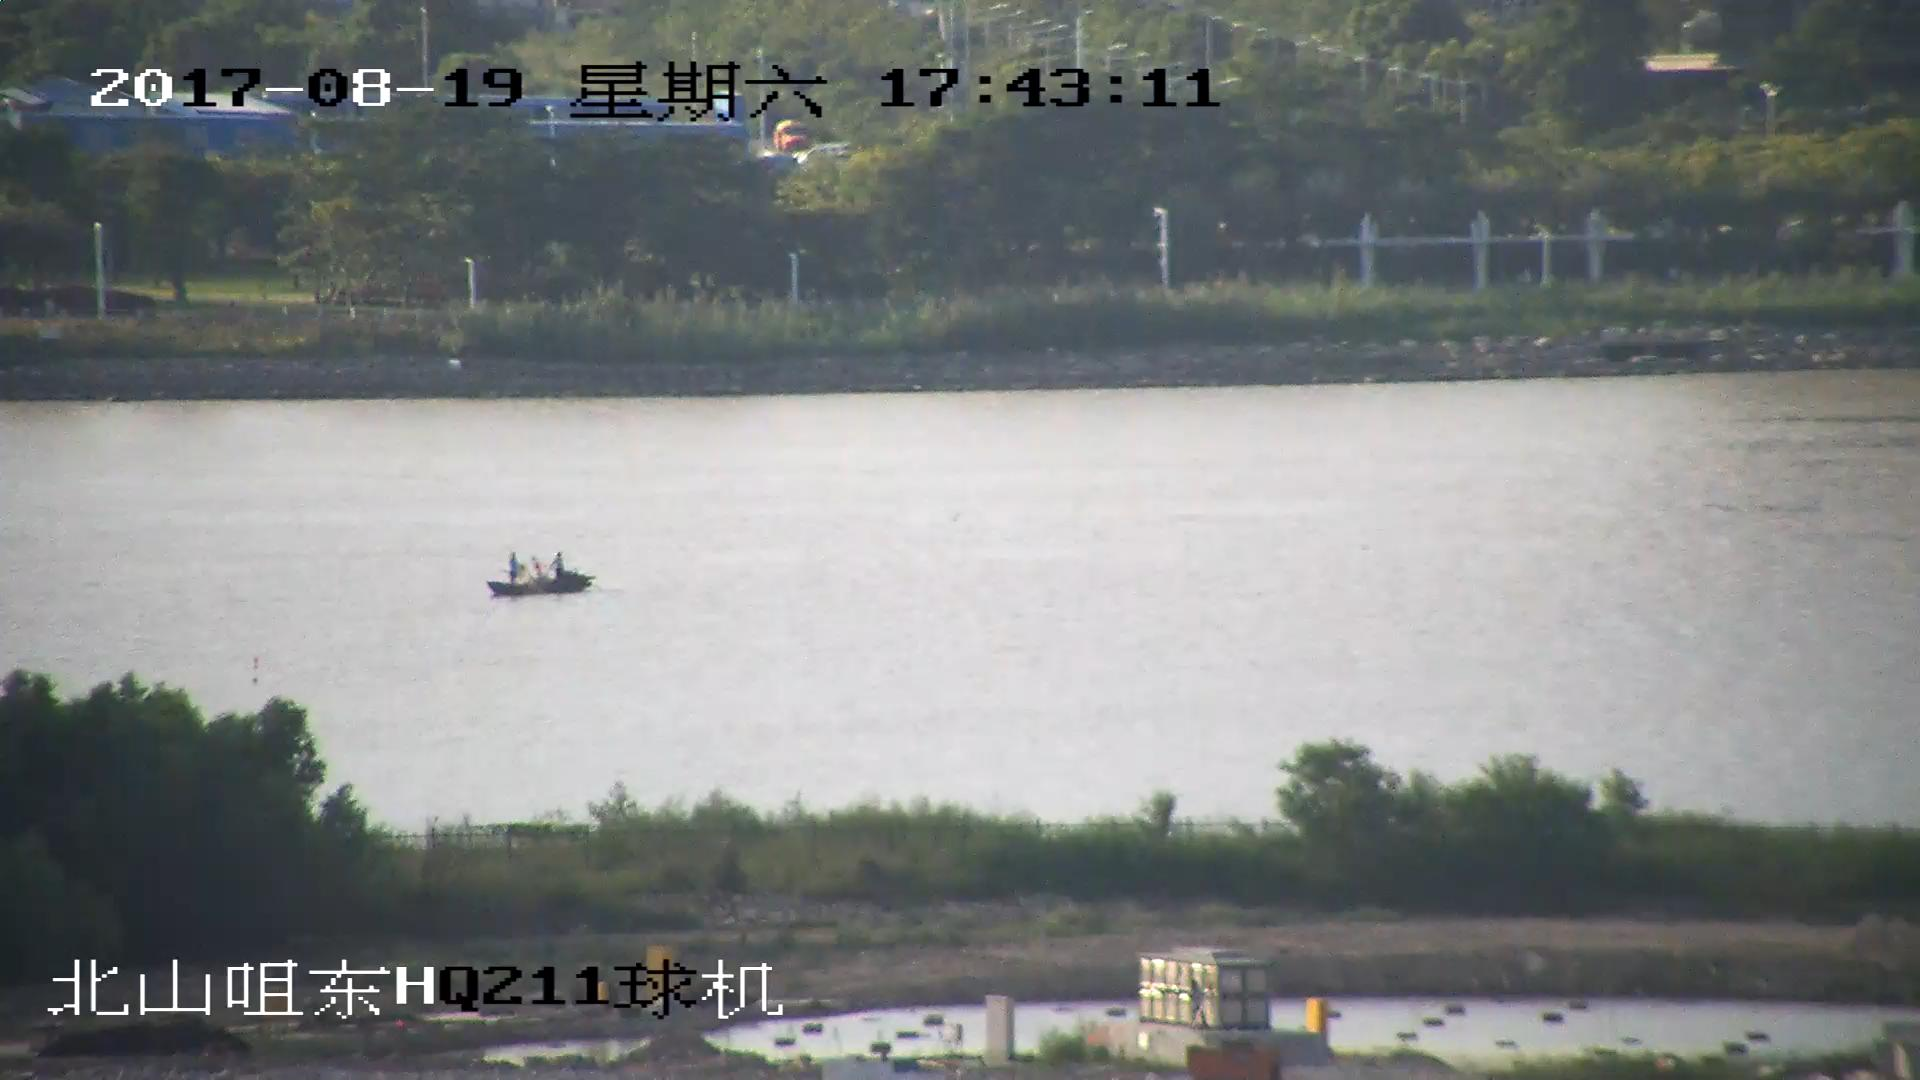fishing boat: (482, 551, 592, 597)
